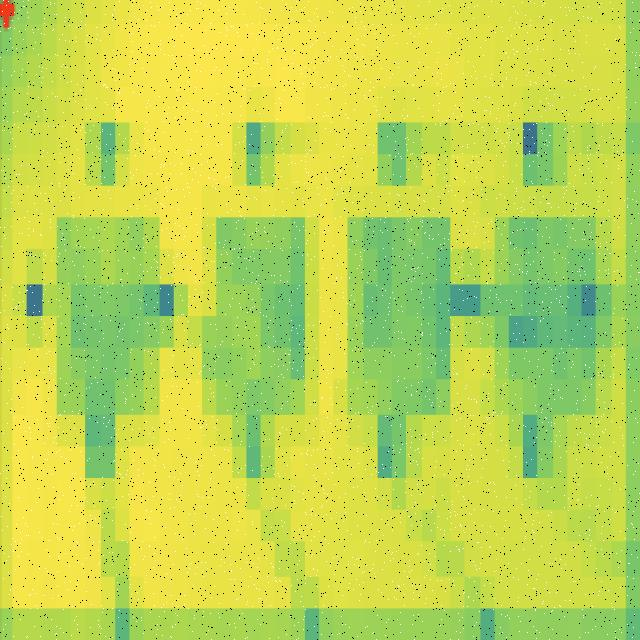Concrete: (340, 190, 461, 434)
Glass: (194, 190, 314, 438)
Metal: (480, 182, 619, 432)
Wood: (44, 198, 166, 428)
